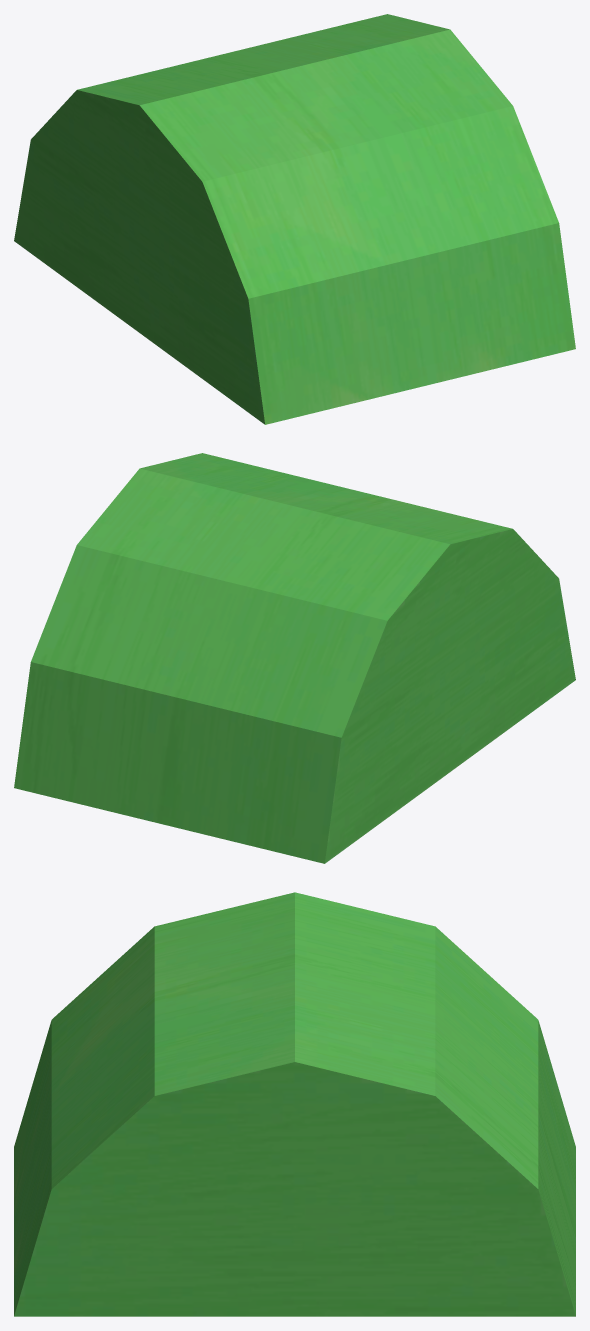
Rendered from SemiCircleBlock_Green.fbx.
The picture shows the model from 3 angles, top to bottom: view 1: azimuth 30°, elevation 25°; view 2: azimuth 150°, elevation 25°; view 3: azimuth 270°, elevation 25°; orthographic projection. The views are drawn at different scales.
Visible parts, largest first — view 1: Cylinder.005; view 2: Cylinder.005; view 3: Cylinder.005.
Part boxes in pixels (x1,y1,x2,y2): Cylinder.005: [14, 14, 575, 424]; Cylinder.005: [14, 453, 575, 863]; Cylinder.005: [14, 892, 575, 1316].
Size of the model in its own units: 100 by 70 by 140.
